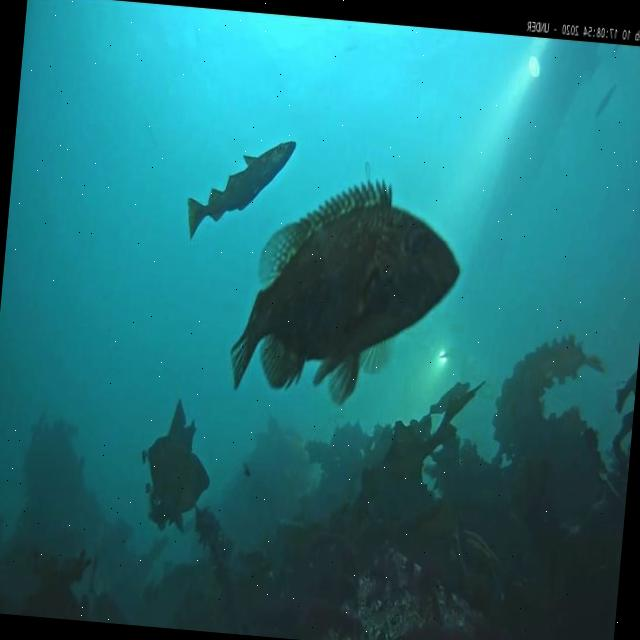fish: (227, 167, 469, 416), (184, 130, 298, 248), (596, 82, 617, 120)
